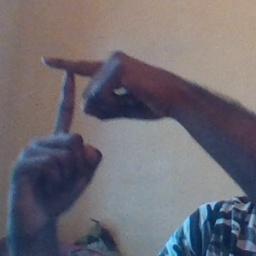T: (18, 42, 123, 158)
